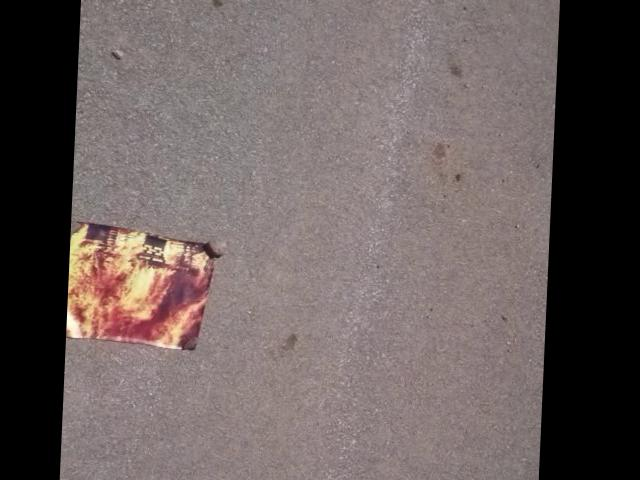fire-poster: (69, 220, 229, 354)
